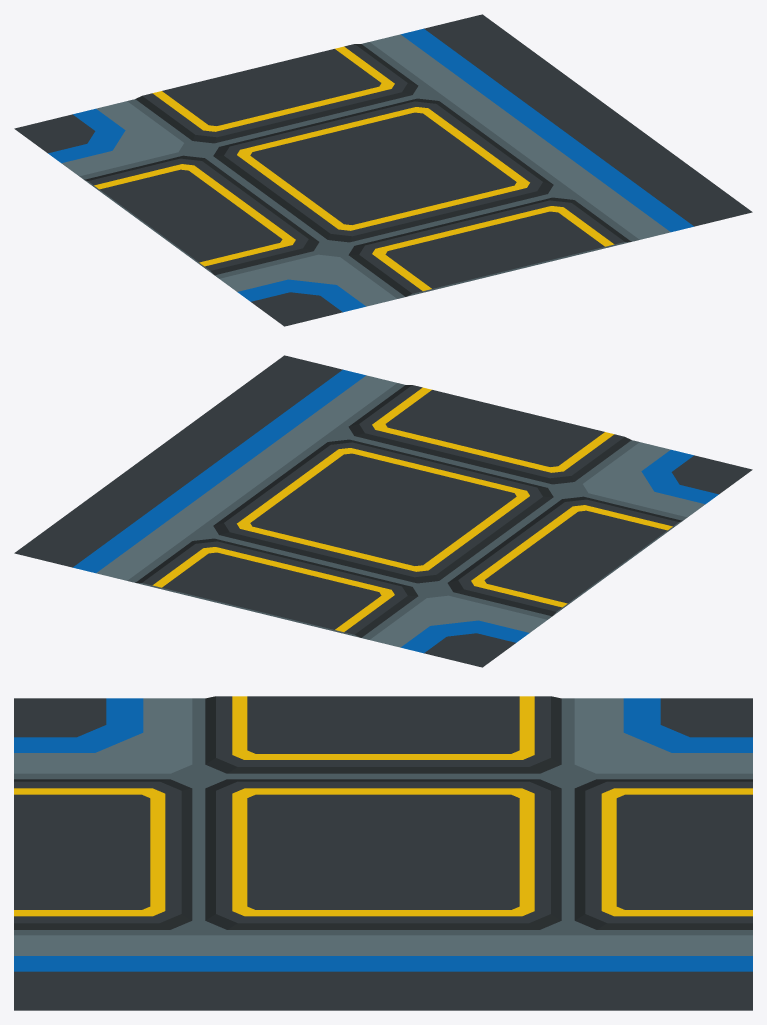
Rendered from Floor_type_C_026.fbx.
The picture shows the model from 3 angles, top to bottom: view 1: azimuth 30°, elevation 25°; view 2: azimuth 150°, elevation 25°; view 3: azimuth 270°, elevation 25°; orthographic projection. The views are drawn at different scales.
Visible parts, largest first — view 1: Floor_type_C_026; view 2: Floor_type_C_026; view 3: Floor_type_C_026.
Part boxes in pixels (x1=…): Floor_type_C_026: x1=14, y1=14, x2=752, y2=326; Floor_type_C_026: x1=14, y1=355, x2=752, y2=667; Floor_type_C_026: x1=14, y1=696, x2=752, y2=1010.
Size of the model in its own units: 400 by 400 by 1.34.
